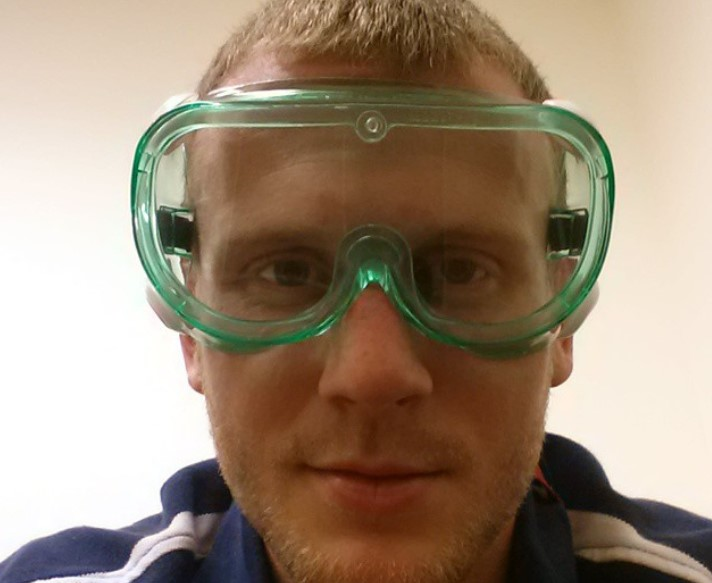face_no_mask: (178, 28, 580, 579)
